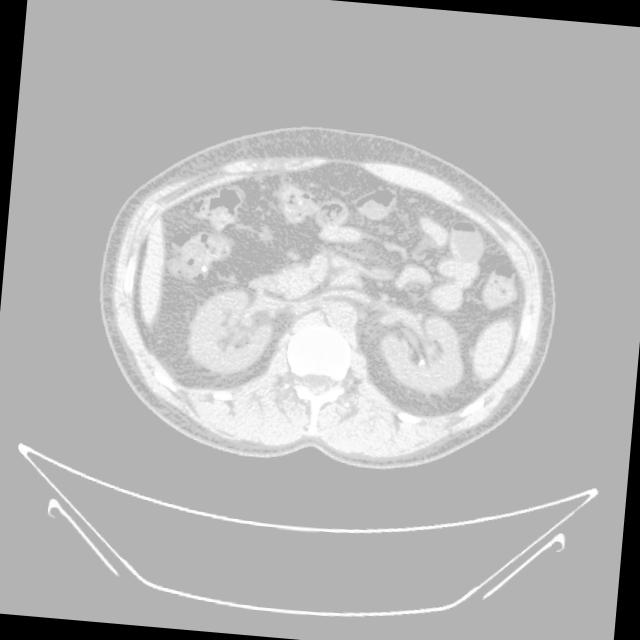STONE: (154, 190, 495, 387)
